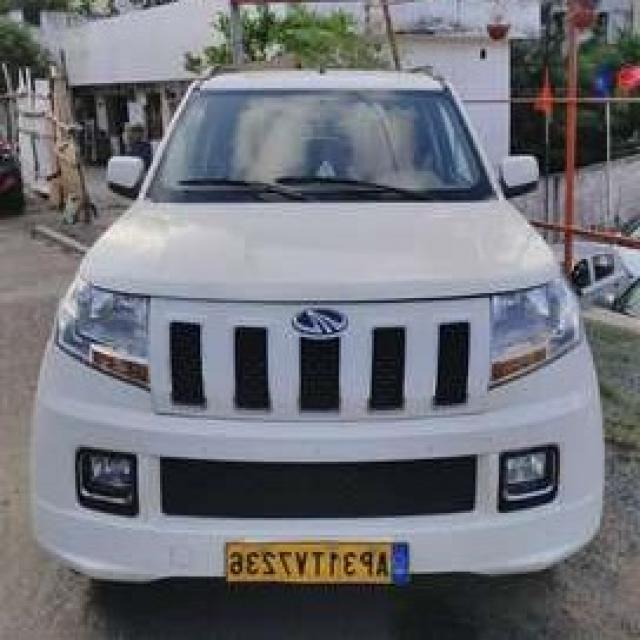license_plate: (221, 539, 415, 585)
